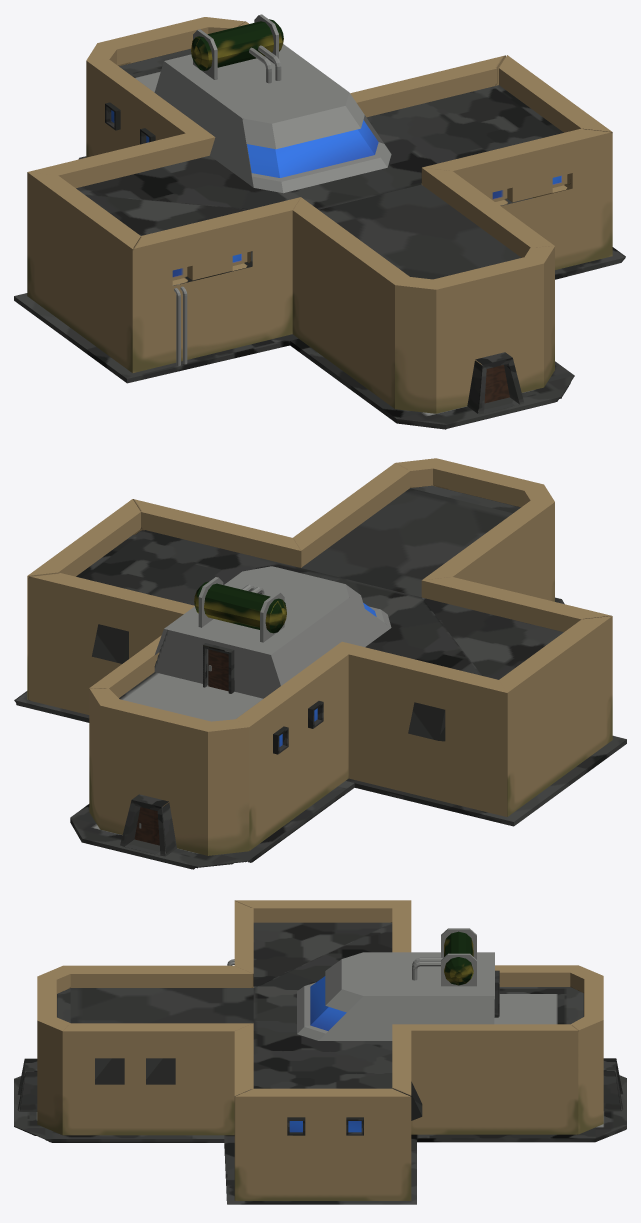
The model's file is Edificio8.fbx.
The picture shows the model from 3 angles, top to bottom: view 1: azimuth 30°, elevation 25°; view 2: azimuth 150°, elevation 25°; view 3: azimuth 270°, elevation 25°; orthographic projection. The views are drawn at different scales.
Parts seen in each view (by area): view 1: LOD_0; view 2: LOD_0; view 3: LOD_0.
Part boxes in pixels (box(x1,y1,x2,y2)): LOD_0: box(14, 14, 625, 429); LOD_0: box(14, 458, 626, 869); LOD_0: box(14, 900, 626, 1204).
Size of what is drawn, in the model's own units: 2583 by 964 by 3271.
